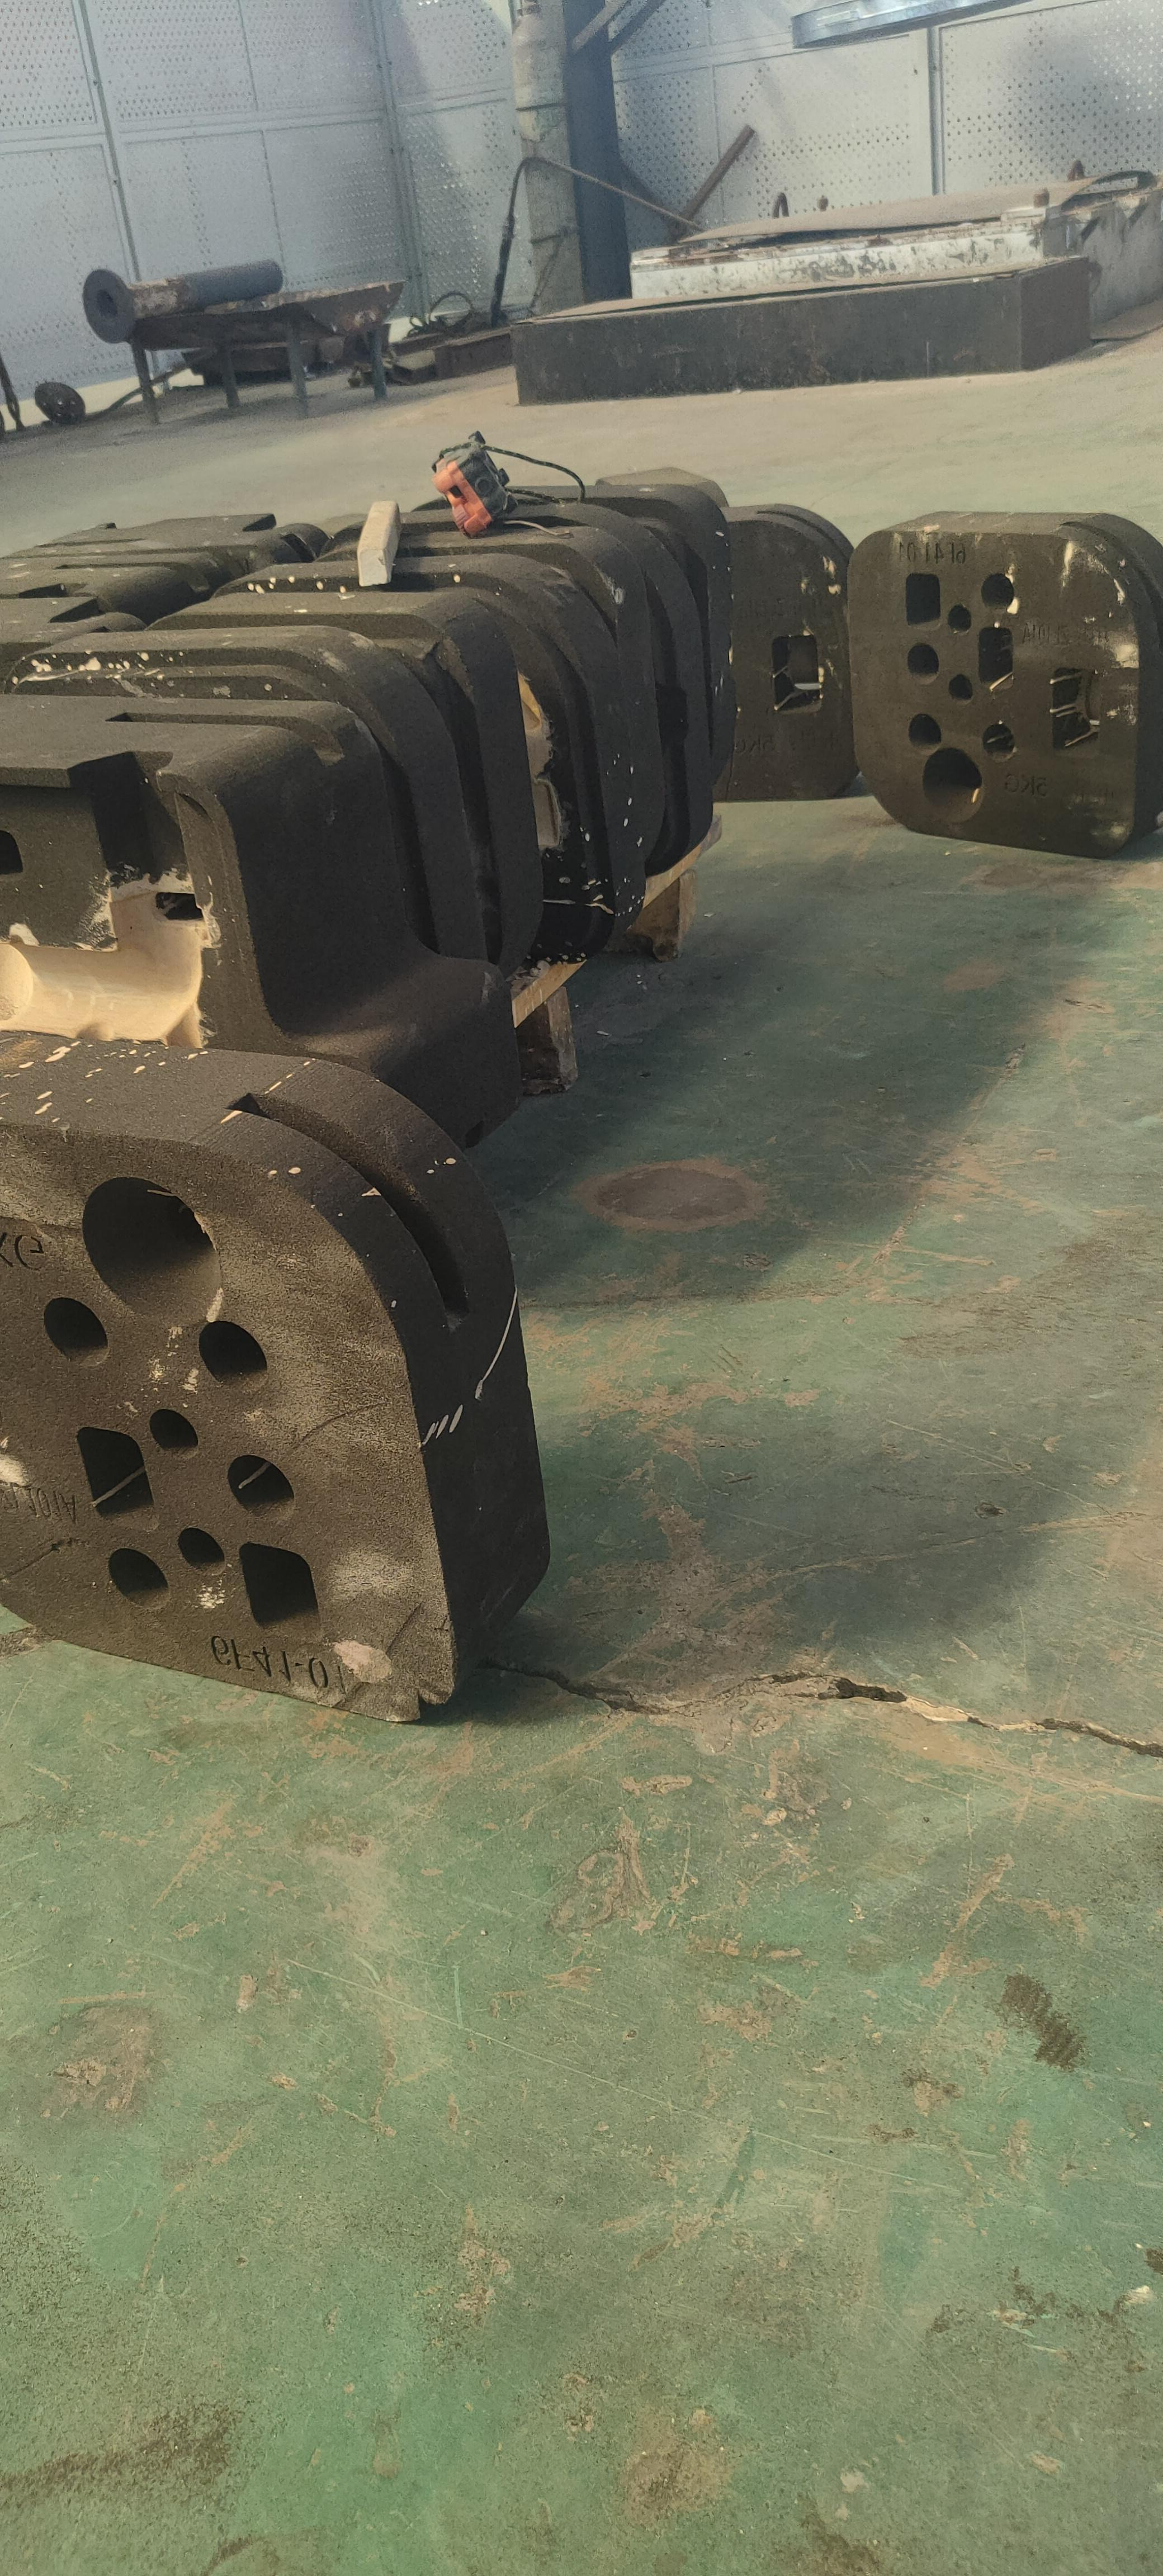pouring hole: (82, 1176, 220, 1321), (922, 746, 982, 823)
